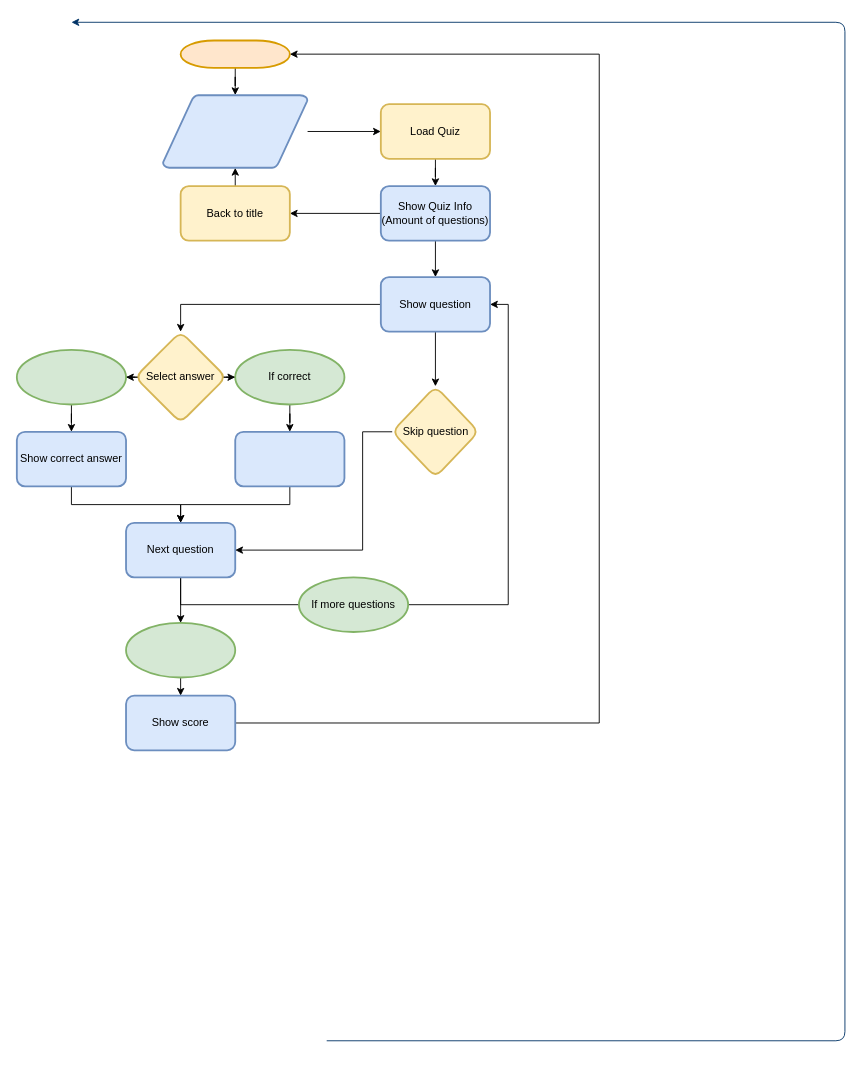
Image size: 868x1065. Some labels were removed from this diagram. The shapes that lost their labels are listed below. From the top down, each one's centre as x and y in pixels, then its label:
[234,53]: Start
[235,131]: Title screen
[70,377]: If incorrect
[289,458]: Increase score
[180,650]: If no more questions remain
